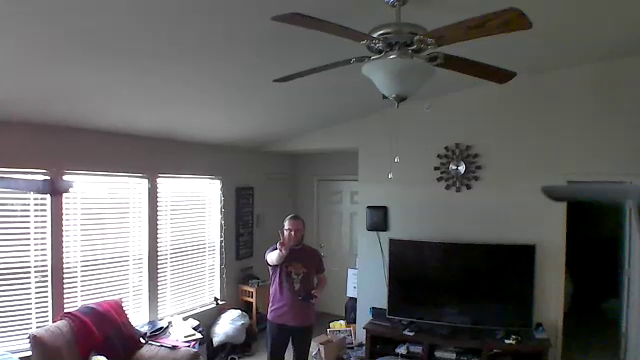peace: (270, 226, 298, 257)
